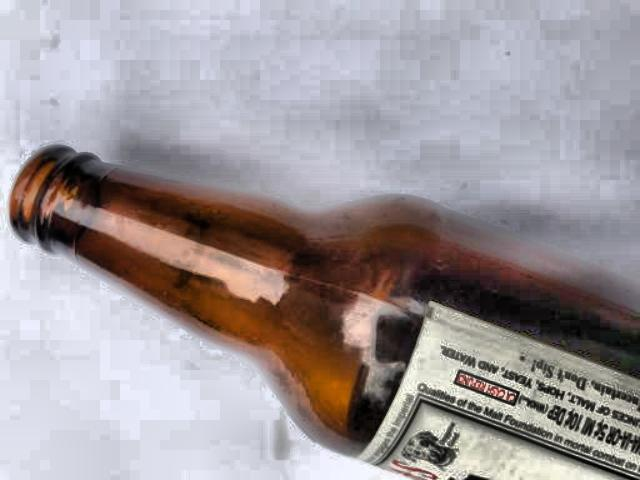Bottles: (0, 103, 640, 480)
